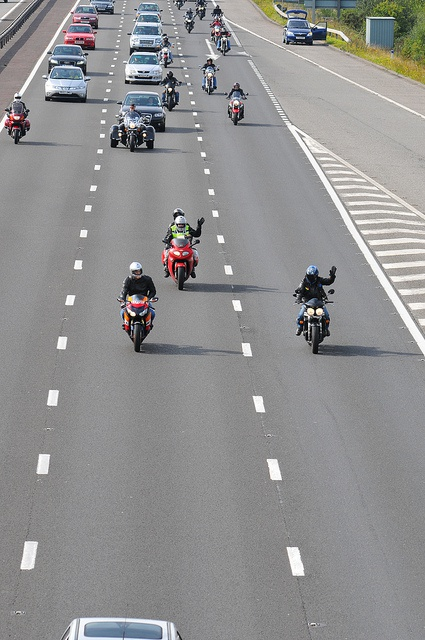non-vehicle: (161, 233, 200, 292), (302, 288, 335, 354), (109, 110, 156, 153), (121, 294, 150, 355), (4, 100, 30, 143), (223, 91, 249, 125), (156, 79, 182, 112), (198, 64, 220, 95), (157, 43, 175, 67), (218, 34, 232, 57), (208, 21, 222, 43), (182, 14, 195, 33), (211, 12, 223, 20)
